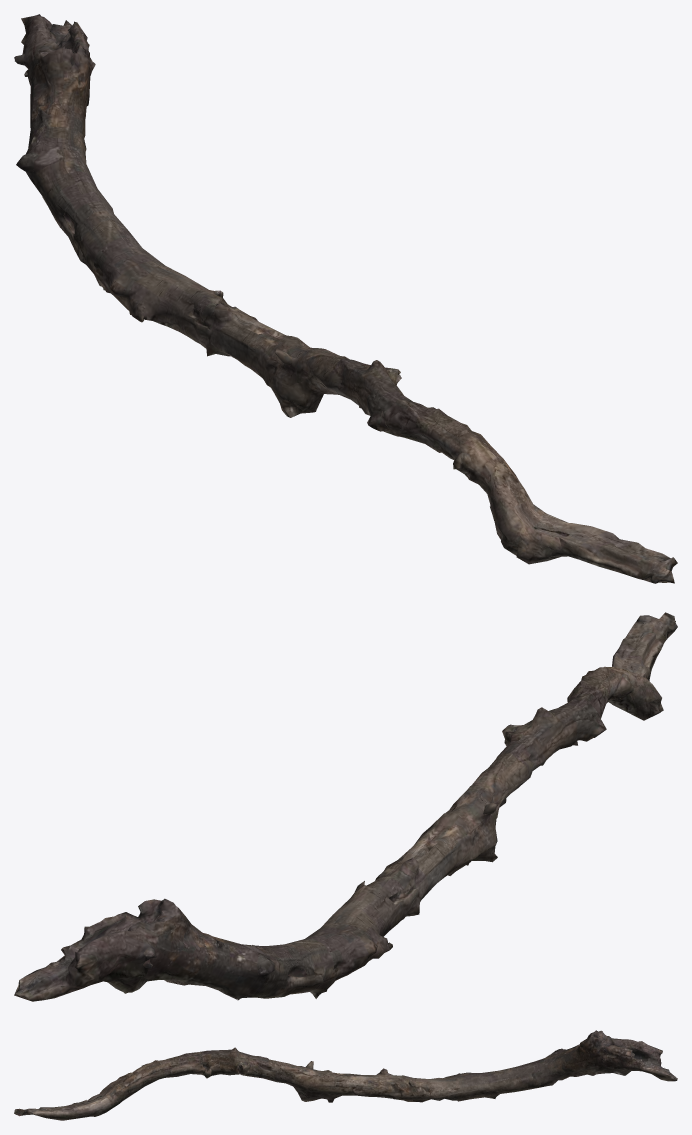
The model's file is kuru_dal_b.gltf.
3 renders of one model, top to bottom at view 1: azimuth 30°, elevation 25°; view 2: azimuth 150°, elevation 25°; view 3: azimuth 270°, elevation 25°, orthographic. The views are drawn at different scales.
Visible parts, largest first — view 1: kuru_dal_b; view 2: kuru_dal_b; view 3: kuru_dal_b.
Part boxes in pixels (x1,y1,x2,y2): kuru_dal_b: (14,14,677,583); kuru_dal_b: (14,612,677,1001); kuru_dal_b: (14,1030,677,1120).
Bounding box in the file's own units: 0.1513 × 0.1422 × 1.04.
Materials: 1 (1 with a texture image).
